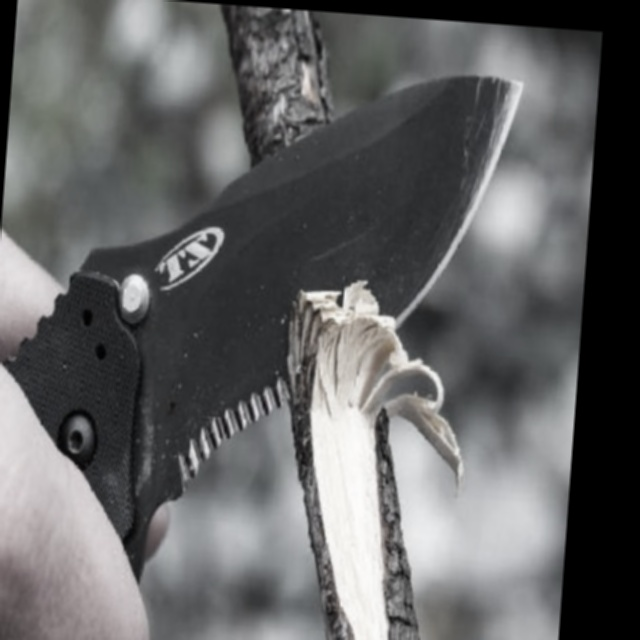Sharp-Object: (0, 42, 522, 609)
